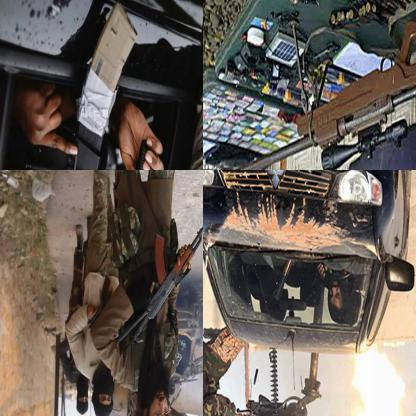rifle: (210, 0, 415, 169), (24, 1, 202, 169), (114, 208, 202, 353), (236, 357, 373, 415)
